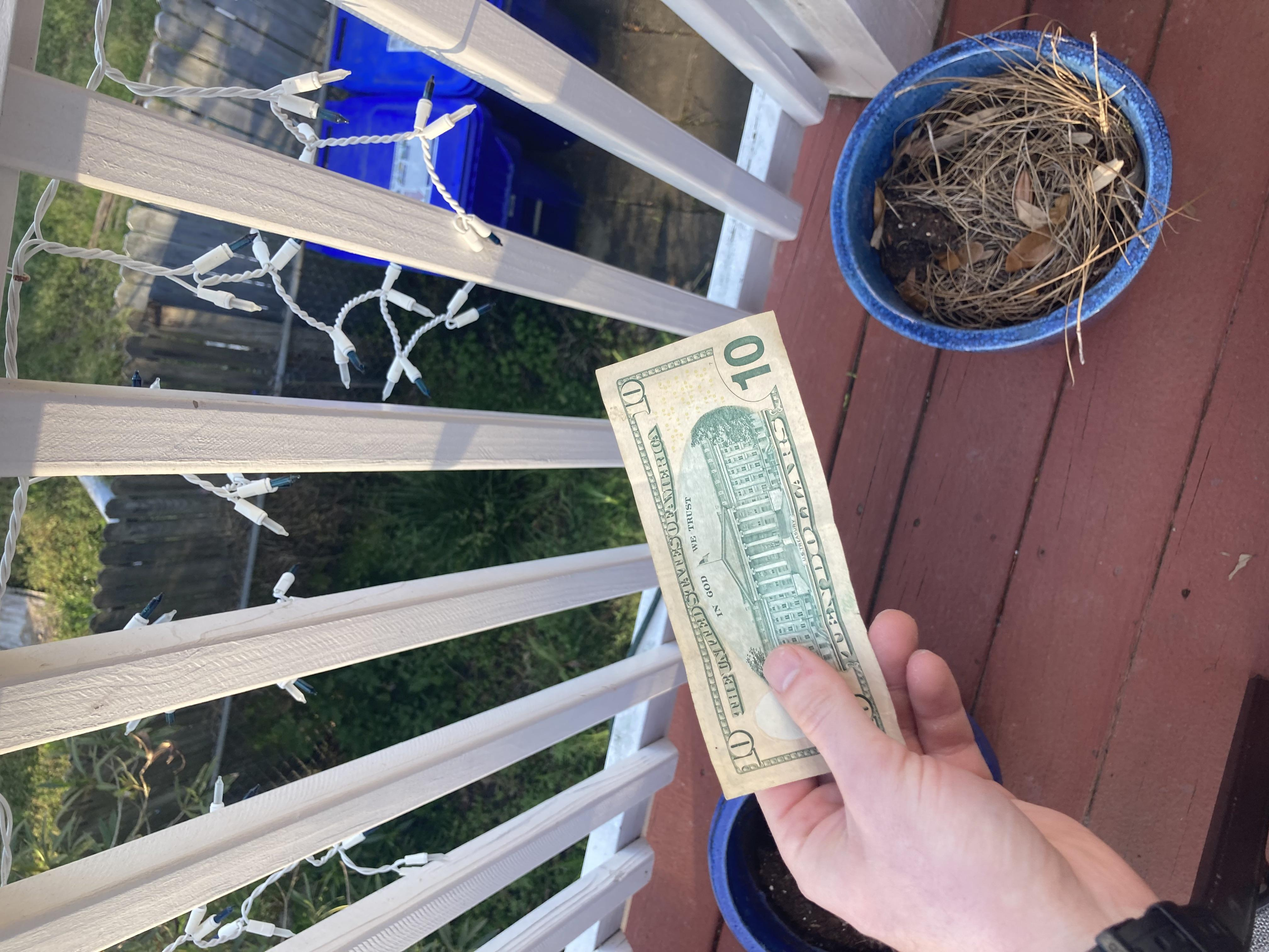ten-back: (203, 446, 859, 680)
